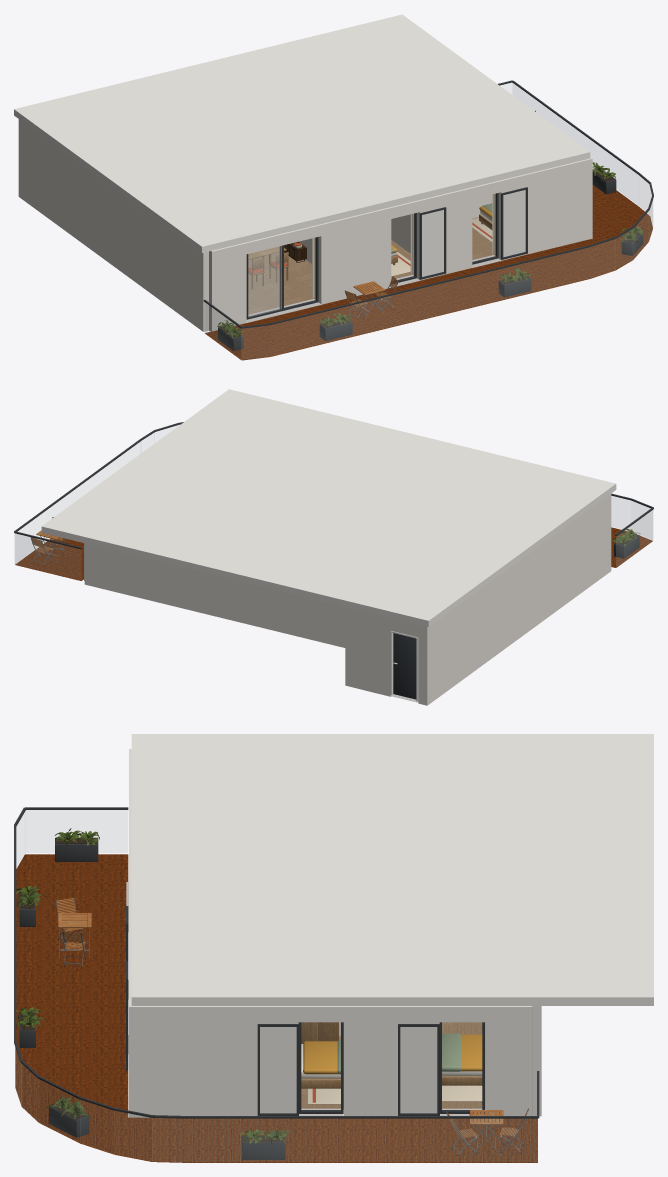
Rendered from lot.glb.
The picture shows the model from 3 angles, top to bottom: view 1: azimuth 30°, elevation 25°; view 2: azimuth 150°, elevation 25°; view 3: azimuth 270°, elevation 25°; orthographic projection. The views are drawn at different scales.
Visible parts, largest first — view 1: m_Plafond, m_Enduit blanc, m_Verre, m_Lames de terrasse, m_Alu anthracite, m_Parquet, m_Chene, m_Seuil, m_Rideau, m_fern_02, m_fern_02.001, m_Tapis; view 2: m_Plafond, m_Enduit blanc, m_Verre, m_Lames de terrasse, m_Porte paliere, m_Alu anthracite, m_Porte; view 3: m_Plafond, m_Lames de terrasse, m_Enduit blanc, m_Verre, m_Alu anthracite, m_Couette, m_Chene, m_outdoor_table_chair_set_01_chair, m_outdoor_table_chair_set_01_table, m_Tapis, m_Parquet, m_fern_02 (+3 smaller).
Boxes of the visible parts, x1,y1,x2,y2 form: m_Plafond: (14,14,590,252); m_Enduit blanc: (18,119,592,331); m_Verre: (204,83,652,359); m_Lames de terrasse: (205,185,652,360); m_Alu anthracite: (203,80,653,350); m_Parquet: (248,217,495,314); m_Chene: (248,214,492,289); m_Seuil: (246,255,501,322); m_Rideau: (312,194,495,298); m_fern_02: (224,162,643,338); m_fern_02.001: (217,169,638,332); m_Tapis: (391,217,492,276); m_Plafond: (41,389,616,626); m_Enduit blanc: (84,494,611,705); m_Verre: (15,425,652,579); m_Lames de terrasse: (15,527,652,580); m_Porte paliere: (393,633,416,699); m_Alu anthracite: (14,422,653,558); m_Porte: (390,631,418,701); m_Plafond: (131,734,653,1005); m_Lames de terrasse: (15,854,537,1162); m_Enduit blanc: (129,749,541,1117); m_Verre: (15,810,537,1161); m_Alu anthracite: (14,807,539,1159); m_Couette: (303,1034,482,1074); m_Chene: (301,1022,482,1088); m_outdoor_table_chair_set_01_chair: (55,897,528,1155); m_outdoor_table_chair_set_01_table: (58,913,503,1155); m_Tapis: (307,1085,482,1104); m_Parquet: (301,1022,485,1108); m_fern_02: (16,828,294,1144).
Size of the model in its own units: 15.22 by 2.76 by 13.24.
Materials: 60 (23 with a texture image).
